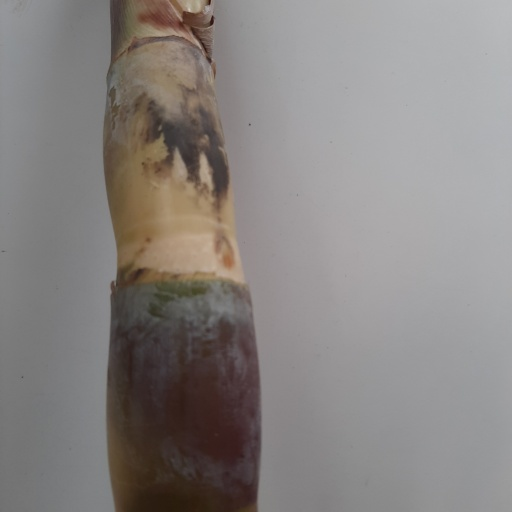Bud: (215, 231, 237, 268)
